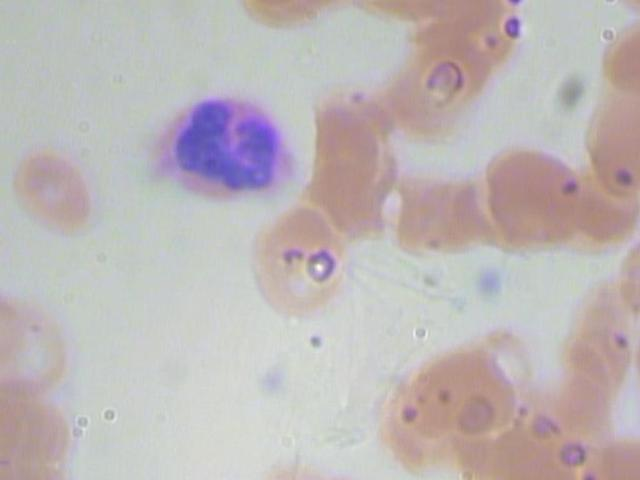Platelets: (251, 360, 292, 398), (469, 263, 509, 301)
RBC: (404, 321, 522, 451), (238, 195, 348, 328), (476, 131, 585, 264), (384, 158, 484, 264), (397, 30, 497, 136), (9, 146, 98, 245), (0, 294, 83, 399), (569, 84, 640, 188)
WBC: (135, 82, 312, 208)
